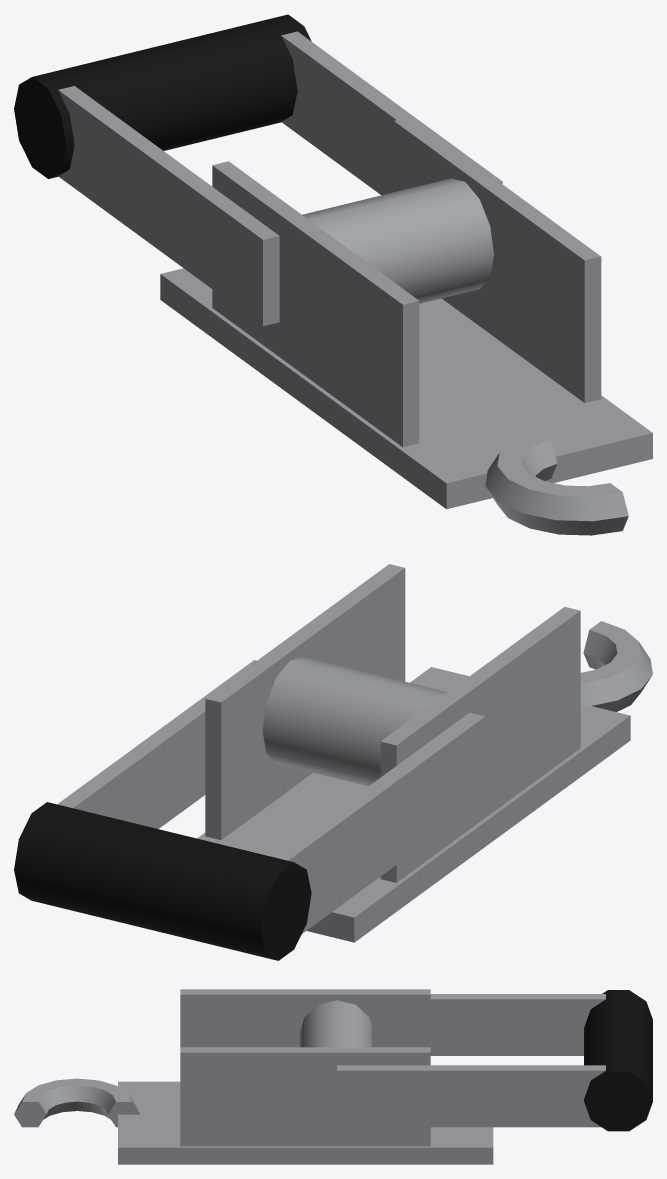
File: SM_Trinquete_Base.fbx
The picture shows the model from 3 angles, top to bottom: view 1: azimuth 30°, elevation 25°; view 2: azimuth 150°, elevation 25°; view 3: azimuth 270°, elevation 25°; orthographic projection. The views are drawn at different scales.
Parts seen in each view (by area): view 1: SM_Trinquete_Base, SM_Trinquete_Palanca; view 2: SM_Trinquete_Base, SM_Trinquete_Palanca; view 3: SM_Trinquete_Base, SM_Trinquete_Palanca.
Boxes of the visible parts, x1,y1,x2,y2 form: SM_Trinquete_Base: [160, 117, 652, 535]; SM_Trinquete_Palanca: [14, 14, 502, 326]; SM_Trinquete_Base: [197, 564, 652, 942]; SM_Trinquete_Palanca: [14, 660, 485, 960]; SM_Trinquete_Base: [14, 989, 493, 1164]; SM_Trinquete_Palanca: [337, 990, 652, 1131].
Bounding box in the file's own units: 0.062 × 0.039 × 0.2042.
